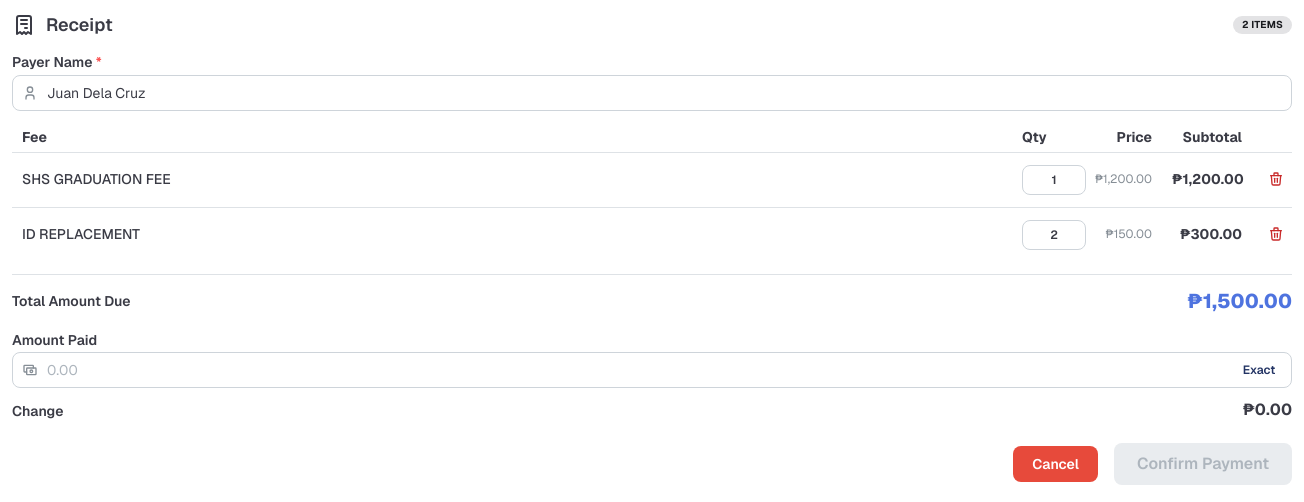
TransactionDraftPanel — Exact › lets a larger amount be typed over it afterwards
Click the button with aria-label "Fill Amount Paid with the exact total".
click(1259, 370)  # box [1235, 359, 1283, 381]
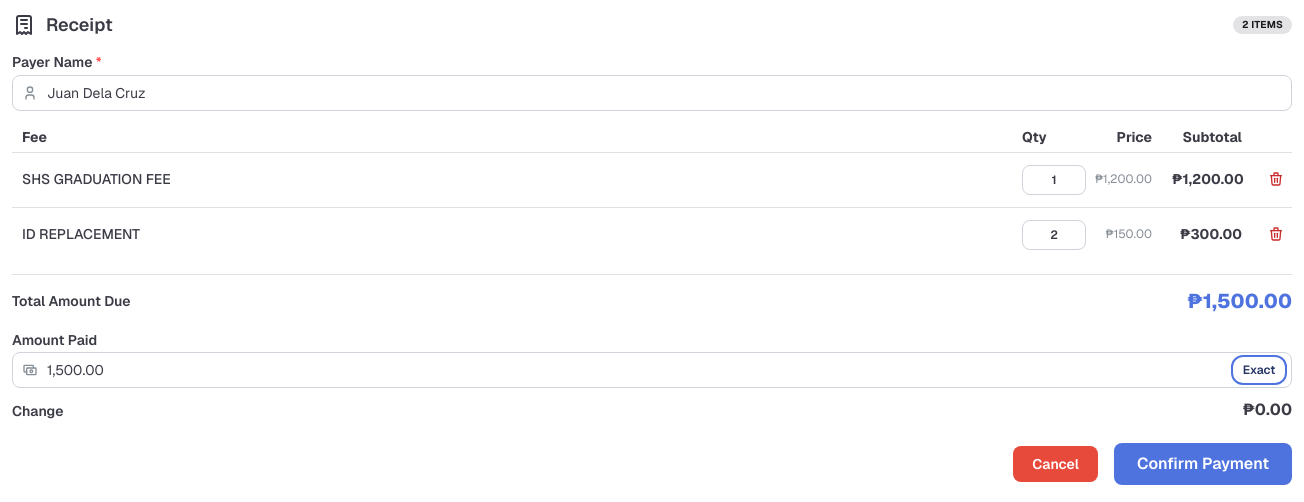
Replace the text in the field labelled "Amount Paid" with "2000" at x=652, y=370, box [12, 352, 1292, 388]
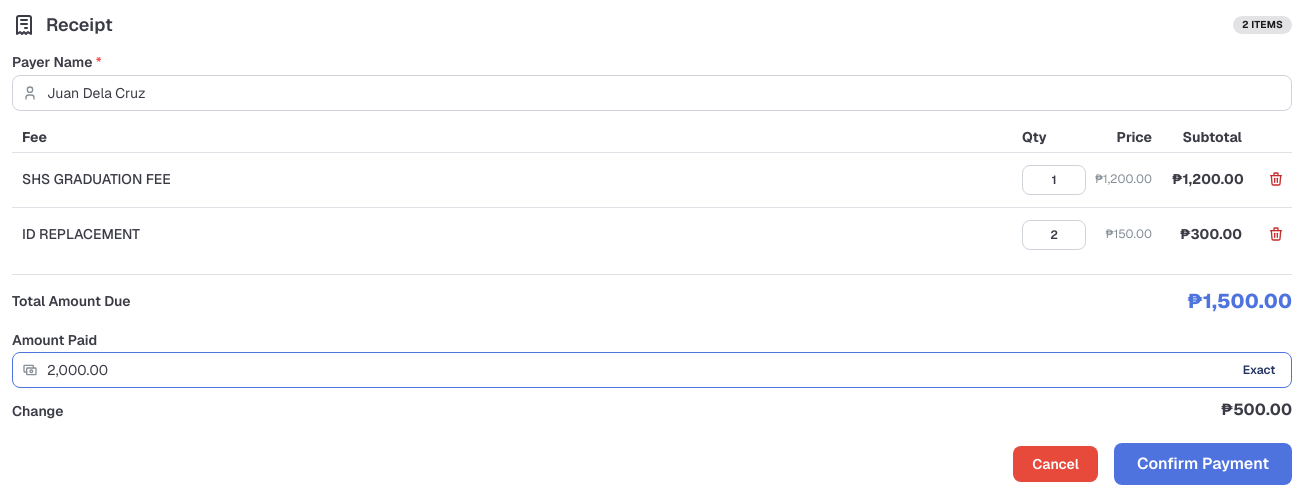
Expected: the text "₱500.00" is shown, [1221, 398, 1292, 423]
